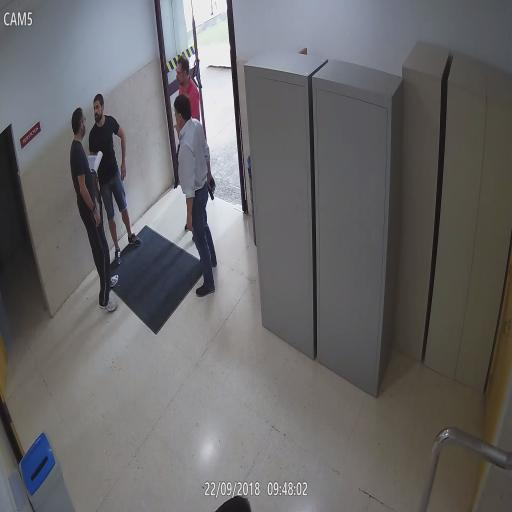Handgun: (207, 174, 217, 201)
